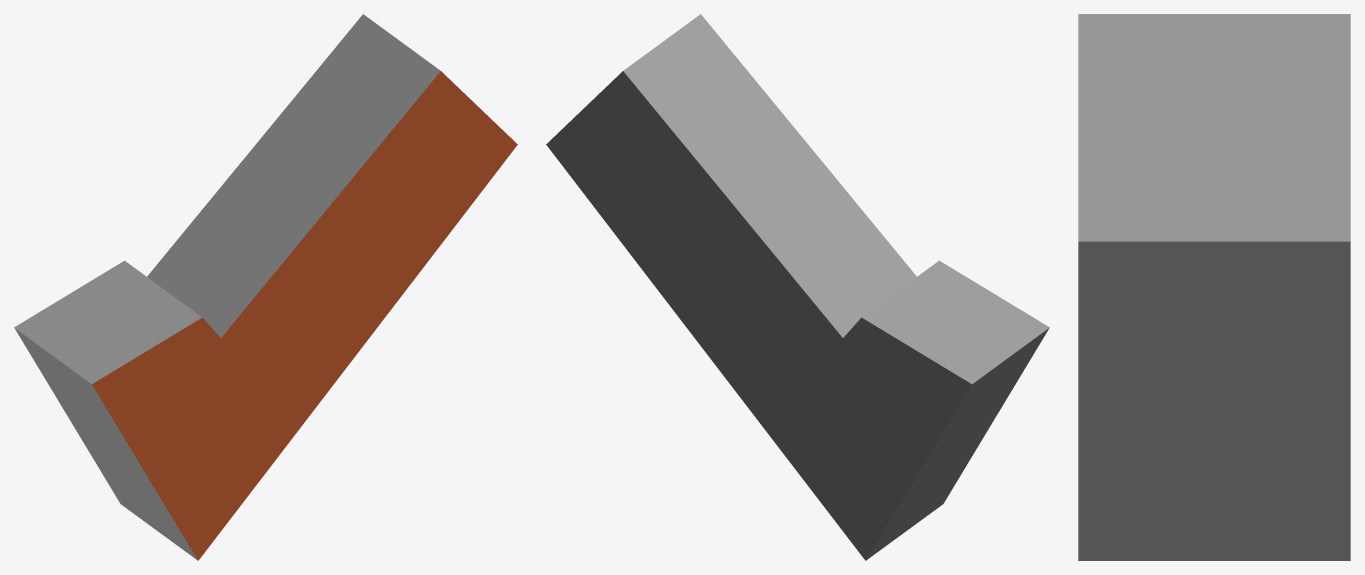
File: construction_3019_assumed_A_Casa_h6m.obj
3 views of the same model, side by side, from view 1: azimuth 30°, elevation 25°; view 2: azimuth 150°, elevation 25°; view 3: azimuth 270°, elevation 25° (orthographic). The views are drawn at different scales.
Visible parts, largest first — view 1: construction_3019_assumed_A_Casa; view 2: construction_3019_assumed_A_Casa; view 3: construction_3019_assumed_A_Casa.
Boxes of the visible parts, left/top/right/bottom form: construction_3019_assumed_A_Casa: left=14, top=14, right=517, bottom=560; construction_3019_assumed_A_Casa: left=546, top=14, right=1049, bottom=560; construction_3019_assumed_A_Casa: left=1078, top=14, right=1350, bottom=560.
Bounding box in the file's own units: 18.98 × 18.34 × 6.
